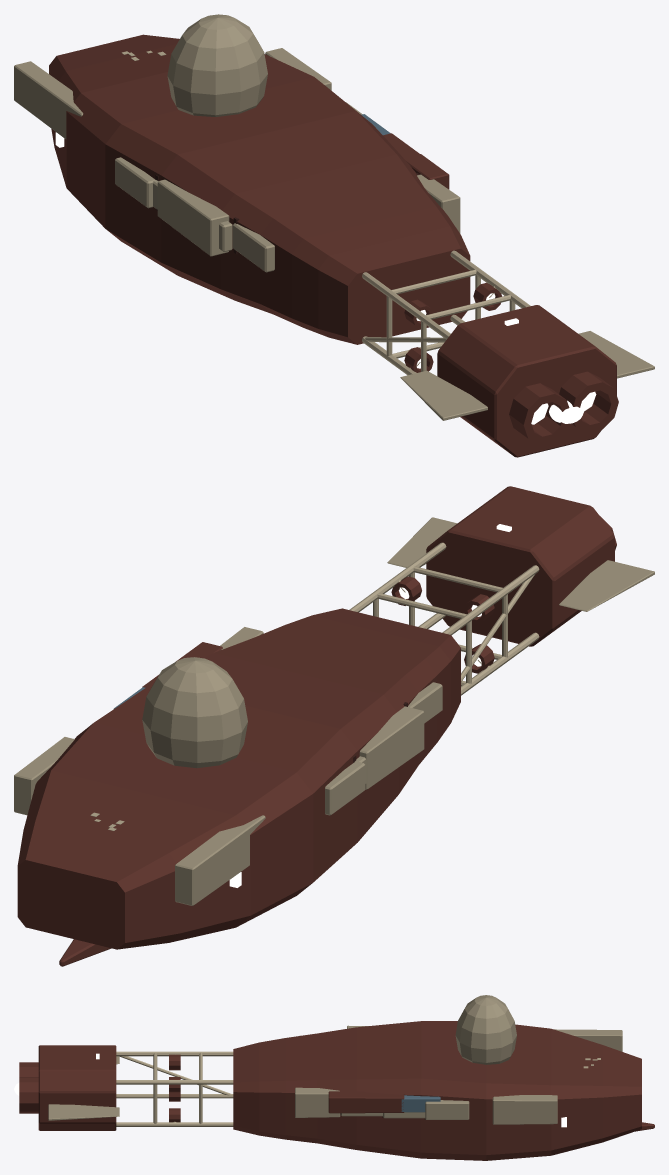
3 renders of one model, top to bottom at view 1: azimuth 30°, elevation 25°; view 2: azimuth 150°, elevation 25°; view 3: azimuth 270°, elevation 25°, orthographic. The views are drawn at different scales.
Visible parts, largest first — view 1: RIMWARD_HULL, RIMWARD_EMISSIVE; view 2: RIMWARD_HULL; view 3: RIMWARD_HULL.
Boxes of the visible parts, x1,y1,x2,y2 form: RIMWARD_HULL: (14,14,654,457); RIMWARD_EMISSIVE: (55,132,596,424); RIMWARD_HULL: (14,486,654,966); RIMWARD_HULL: (19,995,654,1160).
Size of the model in its own units: 2 by 1.66 by 7.11.
